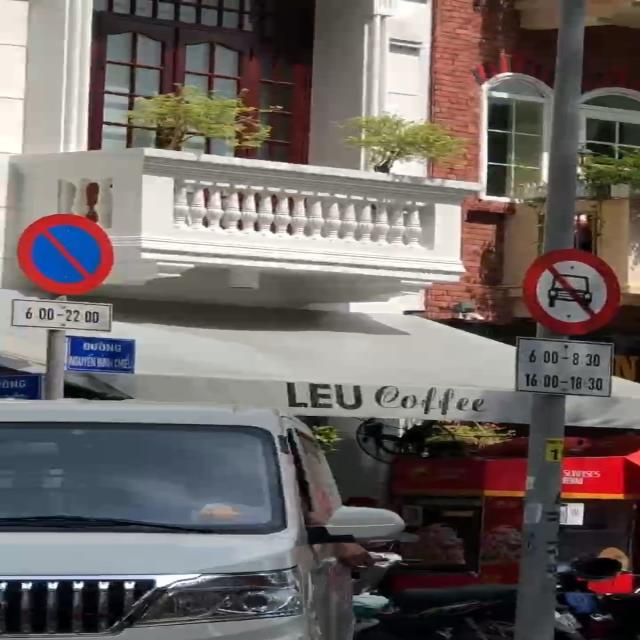Bien bao cam do xe: (15, 209, 127, 301)
Bien bao cam xe oto: (505, 240, 640, 335)
